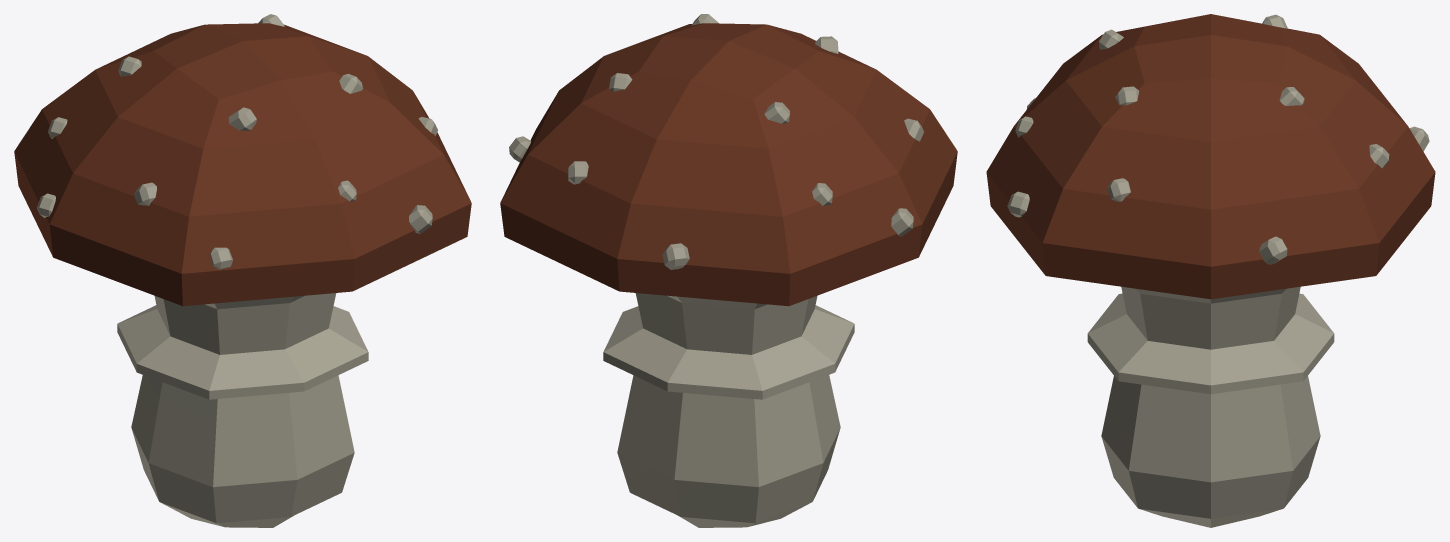
File: Mushroom_3.glb
3 renders of one model, left to right at view 1: azimuth 30°, elevation 25°; view 2: azimuth 150°, elevation 25°; view 3: azimuth 270°, elevation 25°, orthographic.
Visible parts, largest first — view 1: Mushroom_3_Cube.047; view 2: Mushroom_3_Cube.047; view 3: Mushroom_3_Cube.047.
Part boxes in pixels (box(x1,y1,x2,y2)): Mushroom_3_Cube.047: box(14, 14, 471, 527); Mushroom_3_Cube.047: box(500, 14, 957, 527); Mushroom_3_Cube.047: box(986, 14, 1435, 527).
Size of the model in its own units: 0.2449 by 0.2857 by 0.2444.
